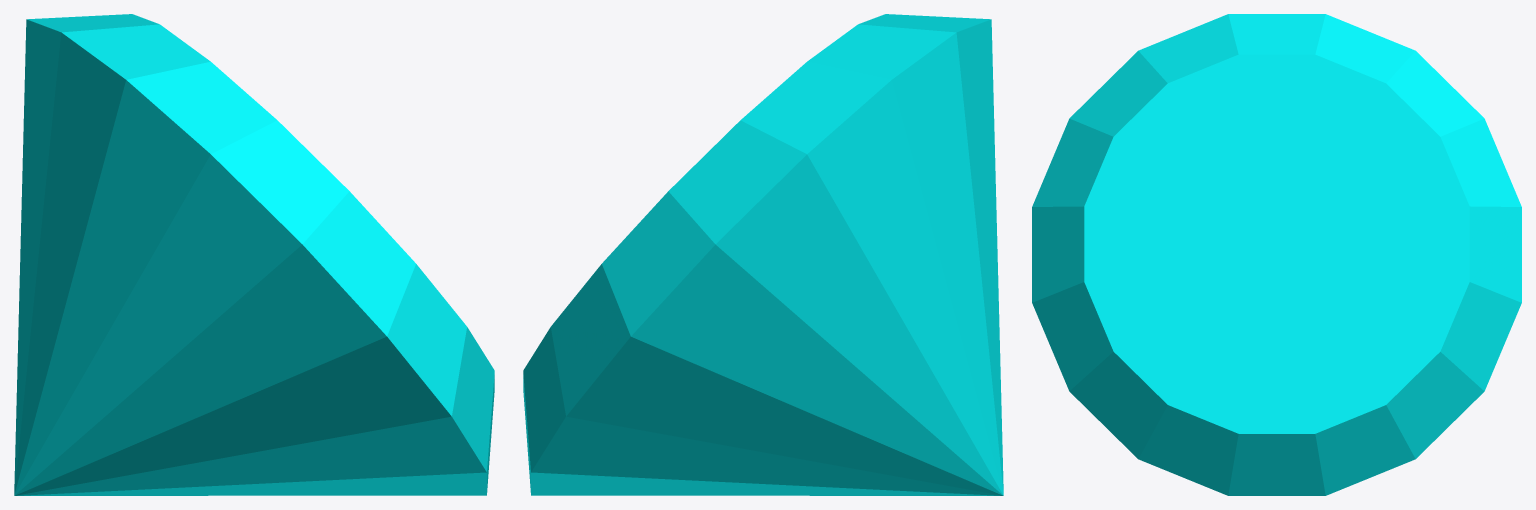
Rendered from Diamond.fbx.
The picture shows the model from 3 angles, left to right: view 1: azimuth 30°, elevation 25°; view 2: azimuth 150°, elevation 25°; view 3: azimuth 270°, elevation 25°; orthographic projection. The views are drawn at different scales.
Parts seen in each view (by area): view 1: Diamond; view 2: Diamond; view 3: Diamond.
Part boxes in pixels (box(x1,y1,x2,y2)): Diamond: box(14, 14, 494, 495); Diamond: box(523, 14, 1003, 495); Diamond: box(1032, 14, 1521, 495).
Size of the model in its own units: 0.3009 by 0.3242 by 0.397.
Materials: 1 (1 with a texture image).
